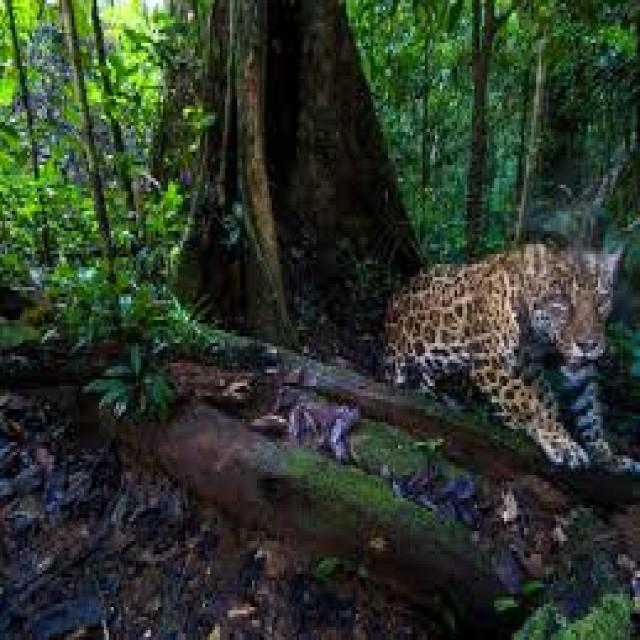Jaguar: (378, 218, 633, 492)
